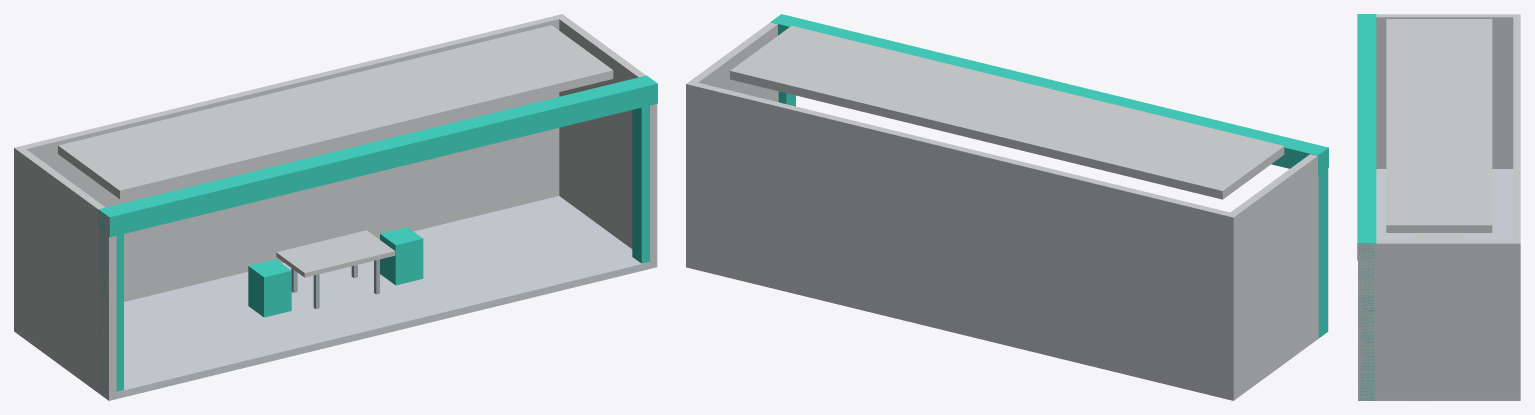
3 renders of one model, left to right at view 1: azimuth 30°, elevation 25°; view 2: azimuth 150°, elevation 25°; view 3: azimuth 270°, elevation 25°, orthographic. The views are drawn at different scales.
Parts seen in each view (by area): view 1: Exhibition Booth Concept; view 2: Exhibition Booth Concept; view 3: Exhibition Booth Concept.
Boxes of the visible parts, x1,y1,x2,y2 form: Exhibition Booth Concept: [14, 14, 657, 400]; Exhibition Booth Concept: [686, 14, 1328, 400]; Exhibition Booth Concept: [1357, 14, 1520, 400].
Bounding box in the file's own units: 10 × 3.34 × 3.01.
